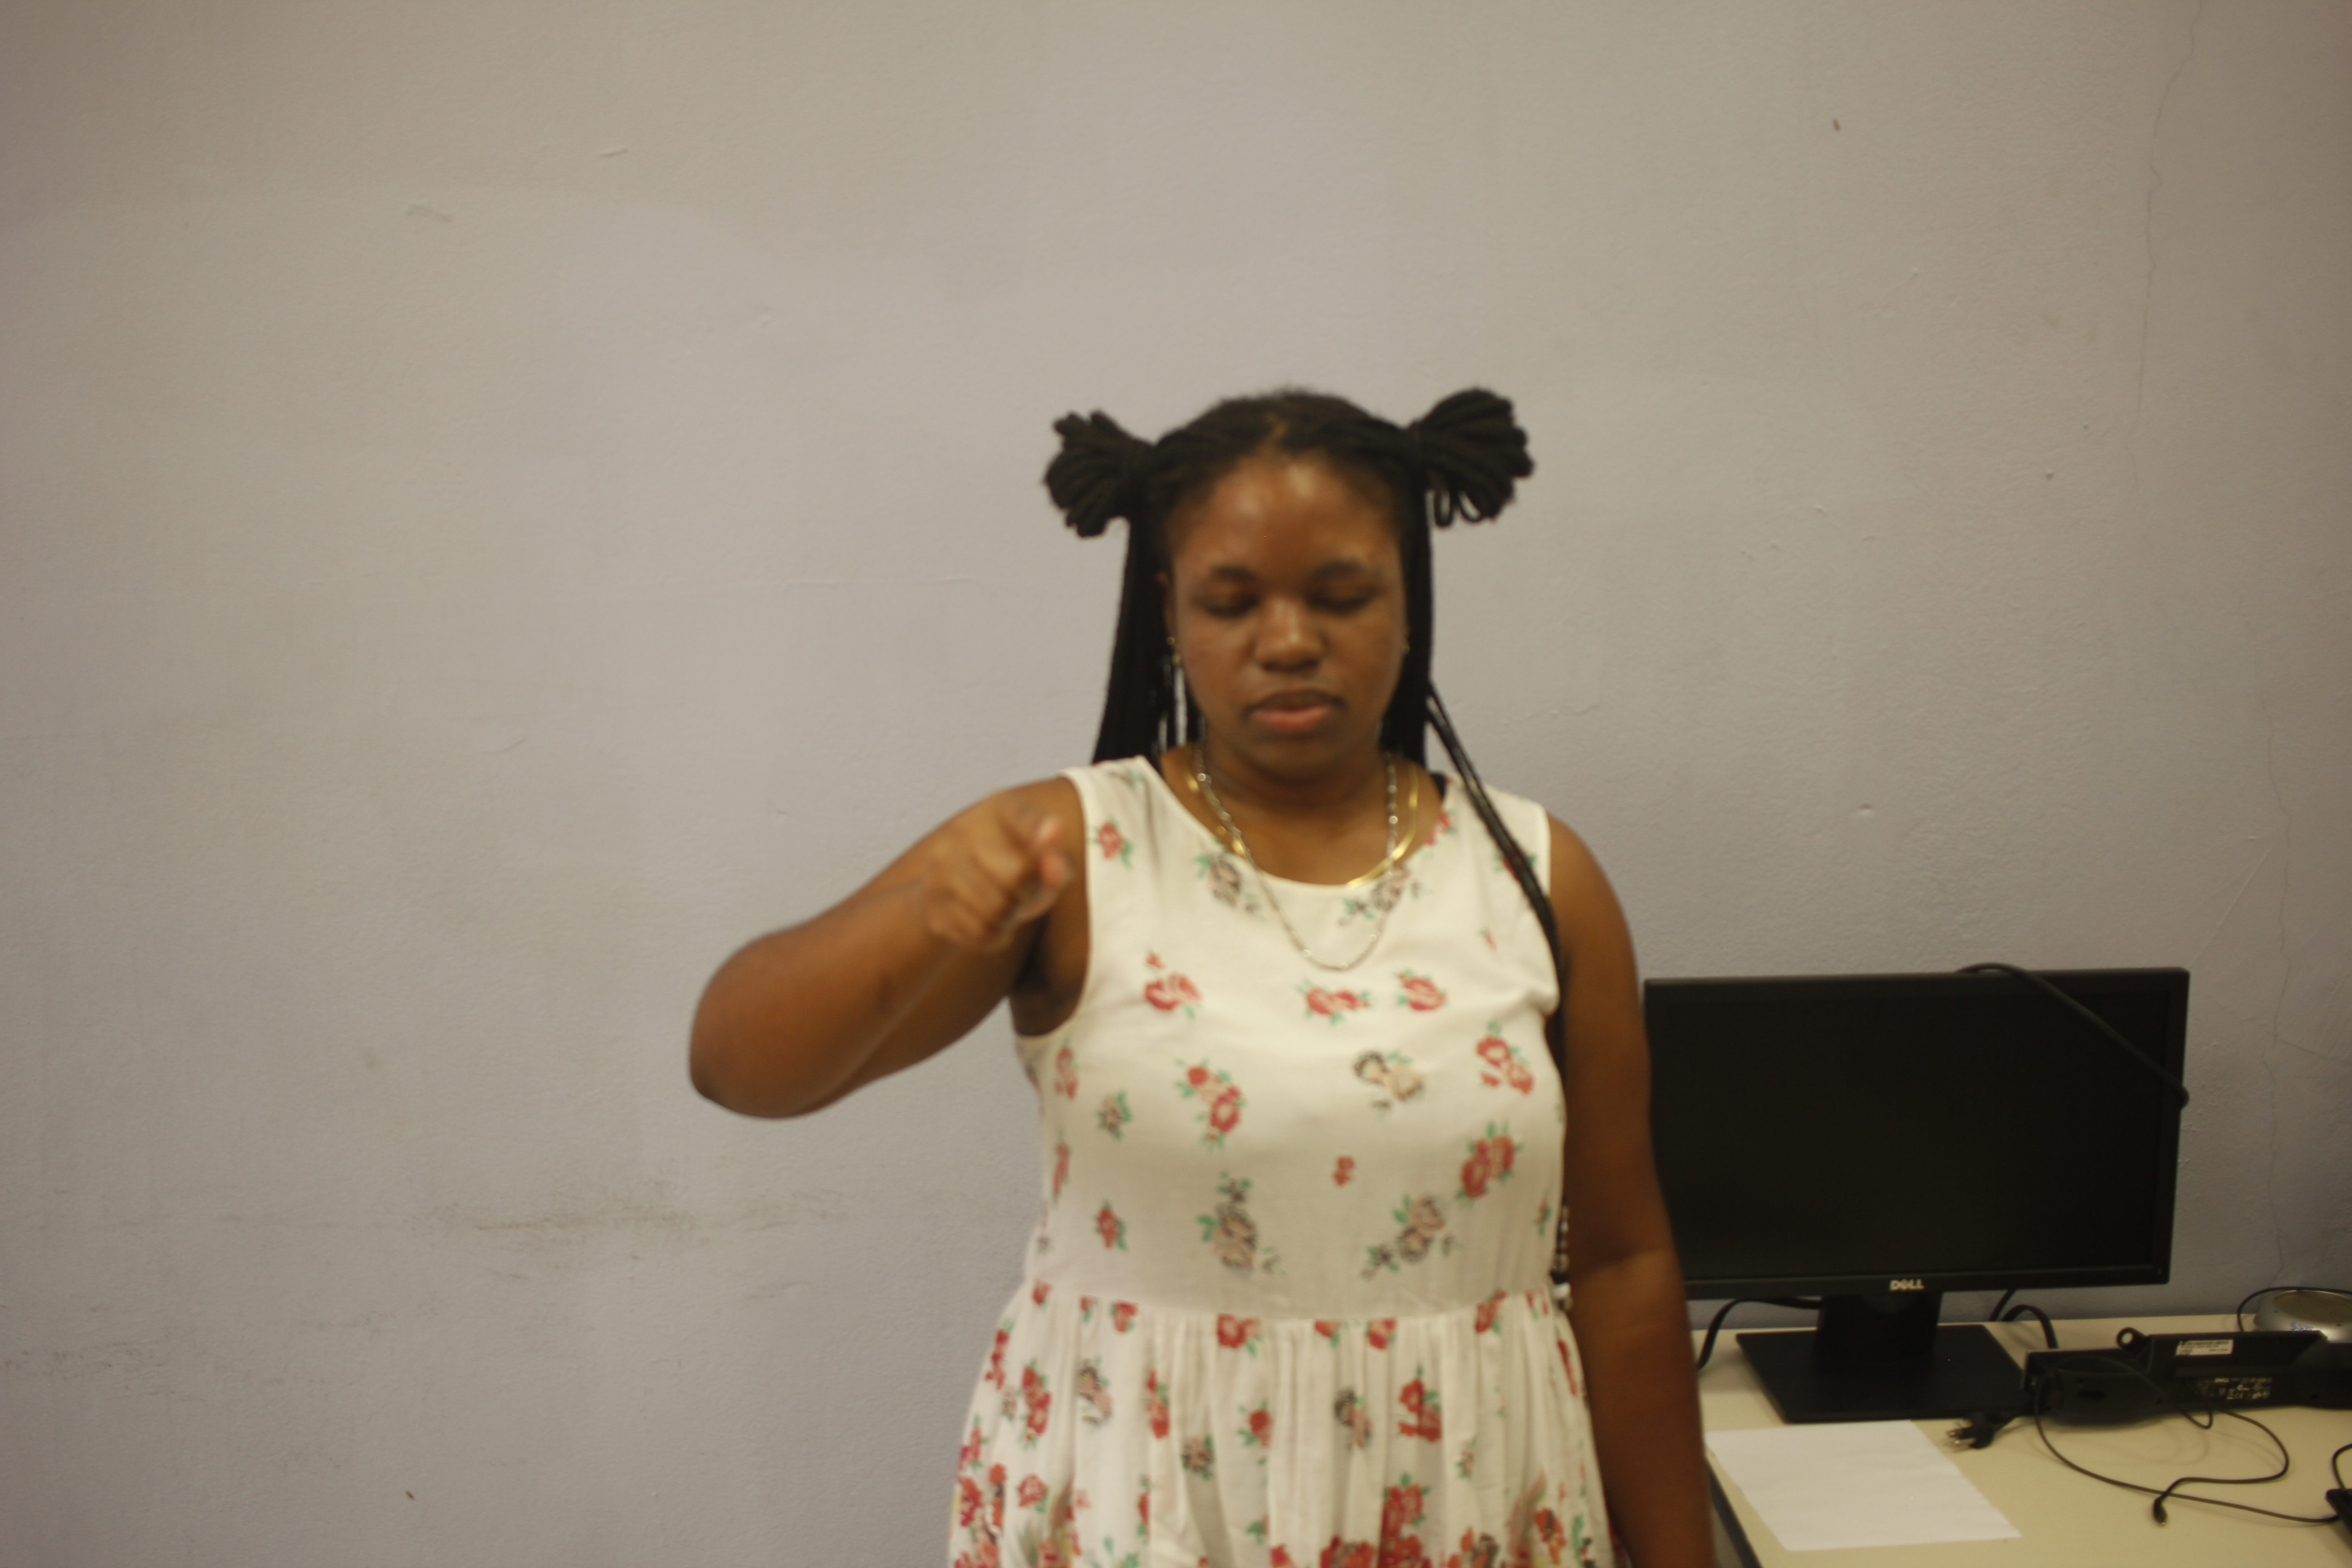point: (910, 777, 1076, 959)
